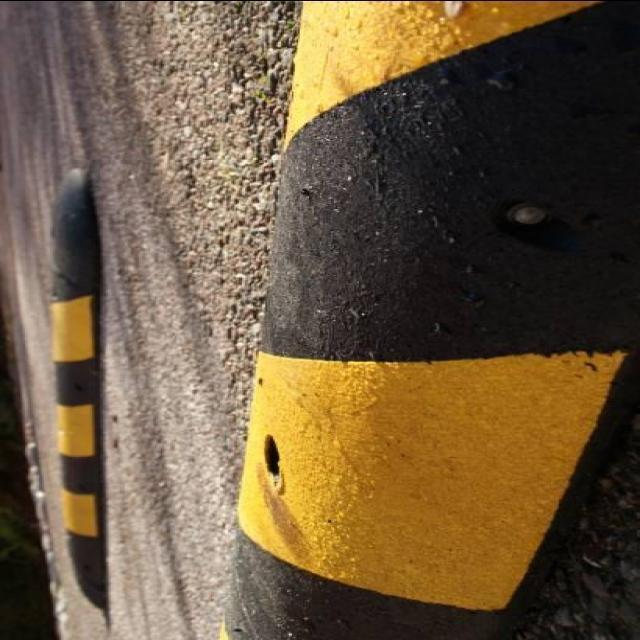speedbreaker: (217, 0, 640, 640), (42, 169, 108, 625)
